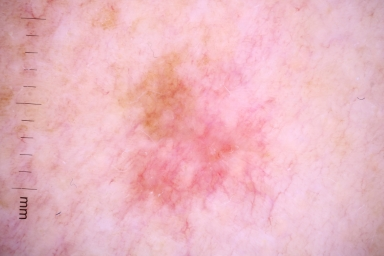seborrheic keratosis: (114, 46, 201, 143)
